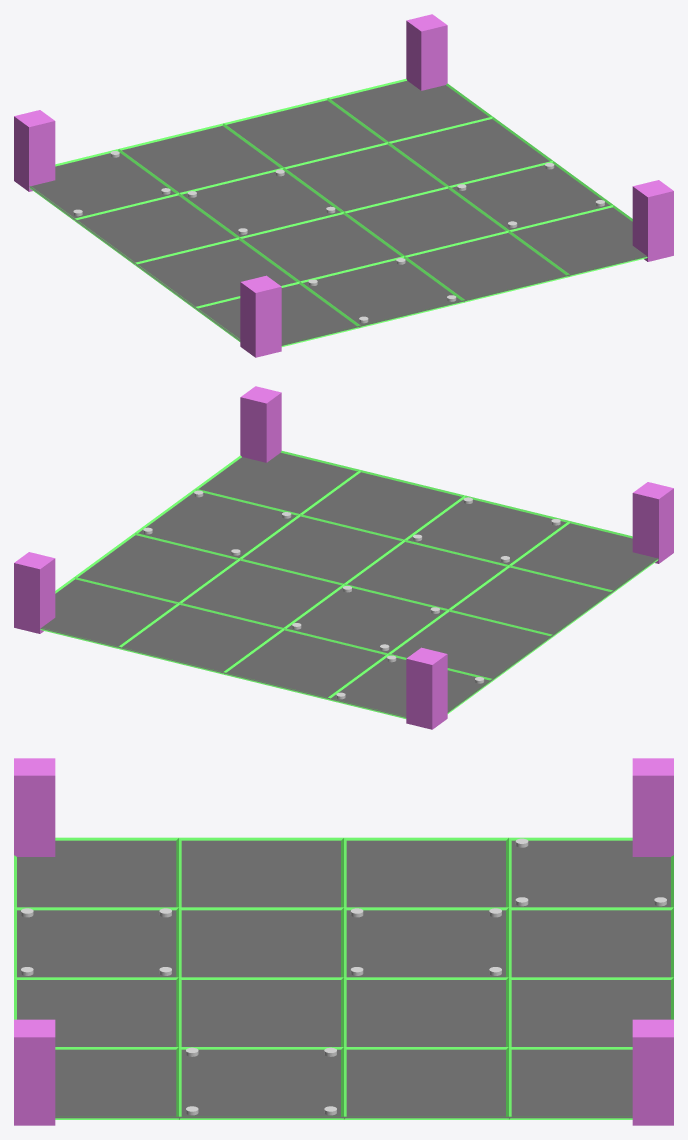
The model's file is OpenCell.fbx.
The picture shows the model from 3 angles, top to bottom: view 1: azimuth 30°, elevation 25°; view 2: azimuth 150°, elevation 25°; view 3: azimuth 270°, elevation 25°; orthographic projection. The views are drawn at different scales.
Parts seen in each view (by area): view 1: Base, Cube, Rim, Cylinder; view 2: Base, Cube, Rim, Cylinder; view 3: Base, Cube, Rim, Cylinder.
Part boxes in pixels (x1,y1,x2,y2): Base: (29,80,647,345); Cube: (14,14,673,357); Rim: (29,79,647,346); Cylinder: (73,151,604,323); Base: (40,452,658,717); Cube: (14,386,673,729); Rim: (40,451,658,718); Cylinder: (143,490,560,699); Base: (17,840,670,1118); Cube: (14,758,673,1125); Rim: (14,837,673,1119); Cylinder: (21,838,666,1115).
Size of the model in its own units: 100 by 14.8 by 100.
